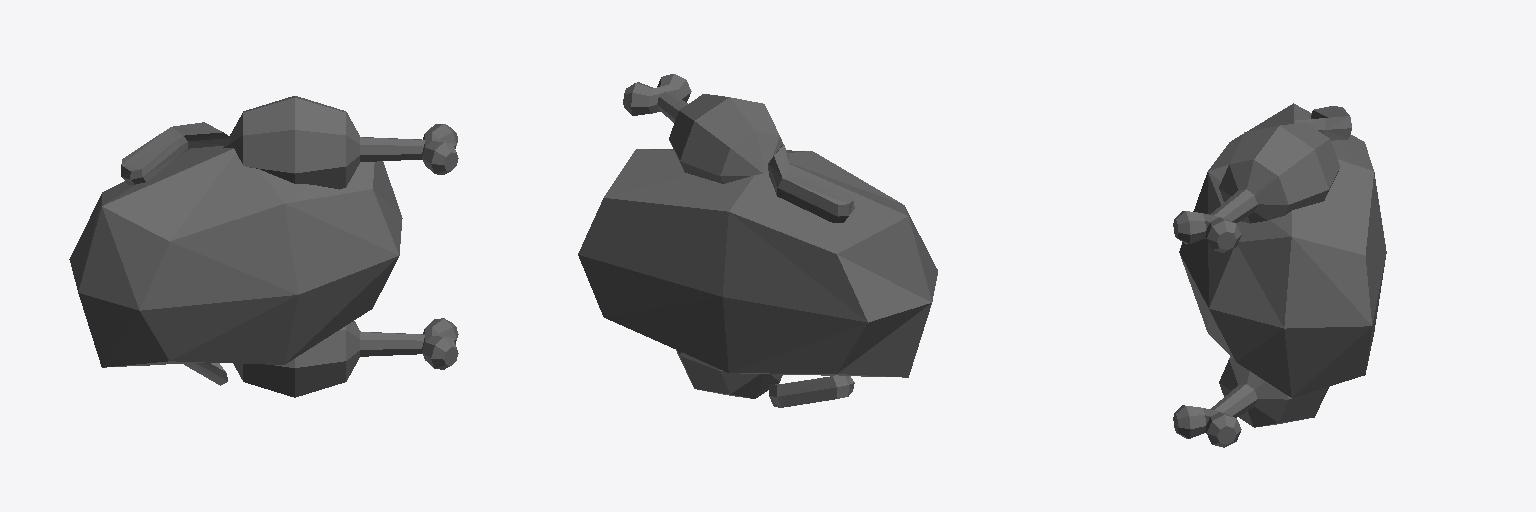
File: Chicken.obj
The picture shows the model from 3 angles: view 1: azimuth 30°, elevation 25°; view 2: azimuth 150°, elevation 25°; view 3: azimuth 270°, elevation 25°; orthographic projection.
Parts seen in each view (by area): view 1: Chicken; view 2: Chicken; view 3: Chicken.
Boxes of the visible parts, x1=… form: Chicken: x1=69, y1=96, x2=458, y2=397; Chicken: x1=578, y1=74, x2=937, y2=407; Chicken: x1=1173, y1=103, x2=1386, y2=447.
Bounding box in the file's own units: 29.29 × 24.42 × 15.83.